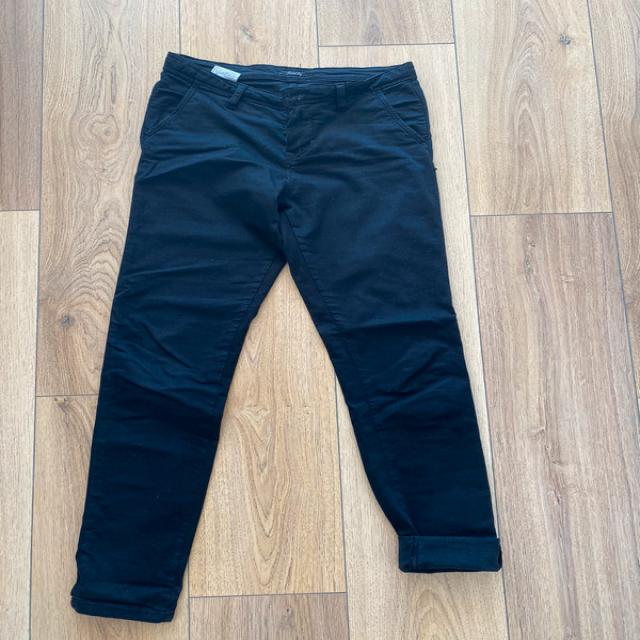long-pants: (68, 53, 503, 620)
